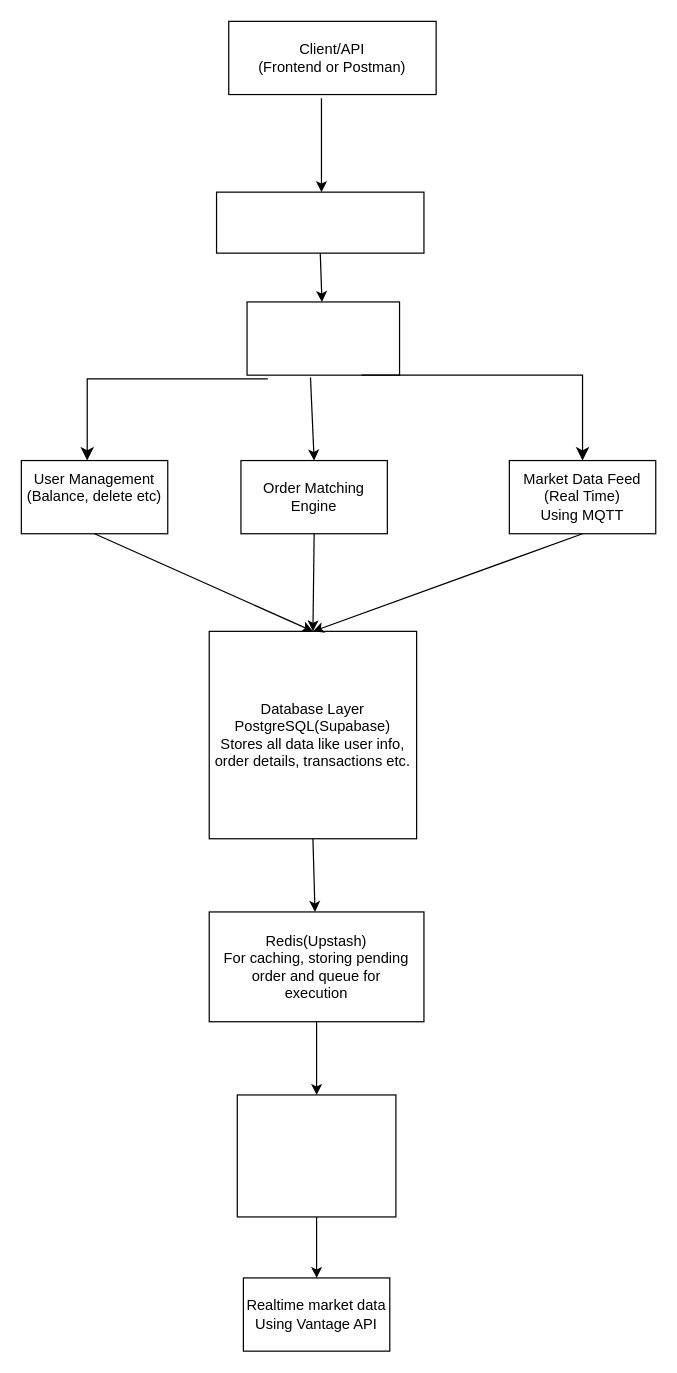
Image size: 677x1373. Some labels were removed from this diagram. Here are the shapes that lost their labels. From the top down, the box of each, then its label:
(215, 191, 424, 253): Express.js API Layer
(246, 301, 400, 375): Auth Layer (Using Bcrypt and jwt)
(236, 1094, 396, 1217): MQTT Layer Instant stock data transfer and instant order execution communication
